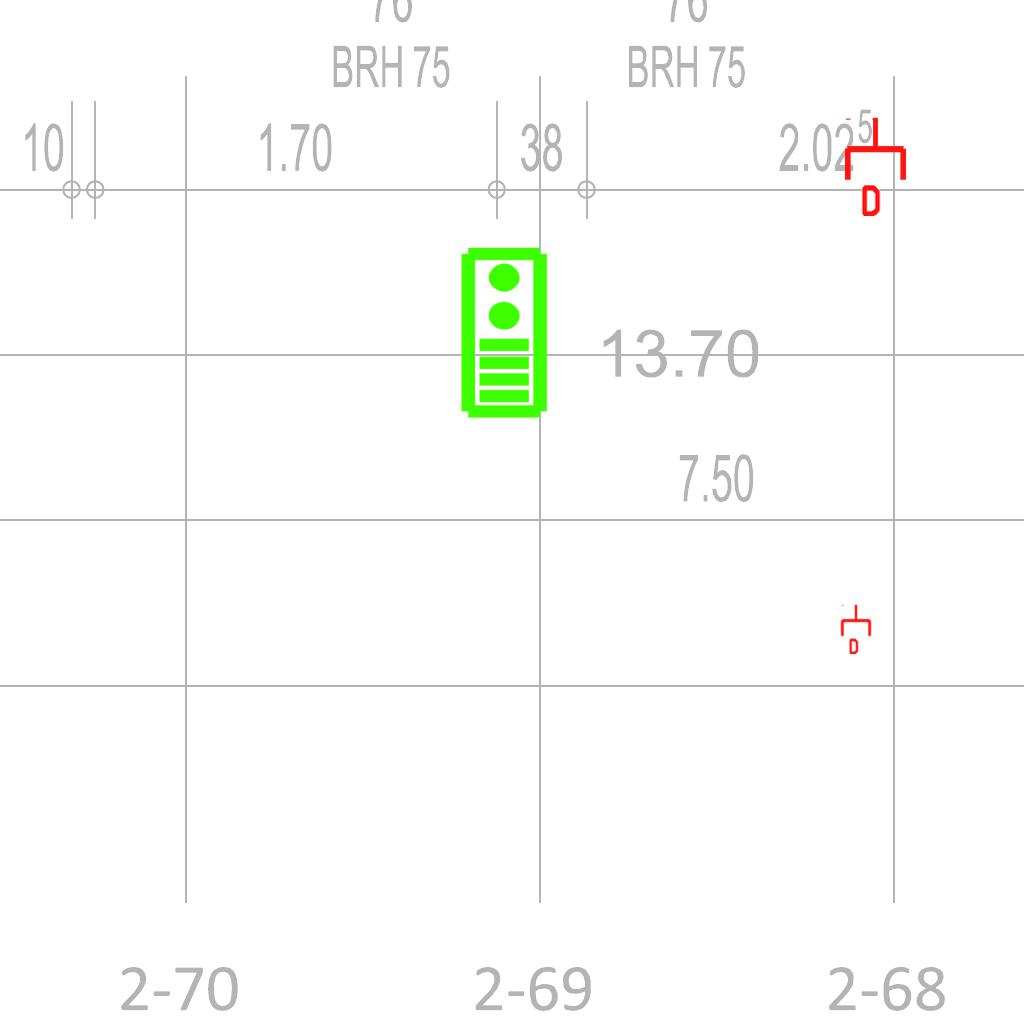Datenanschluss_einfach: (841, 116, 910, 216), (839, 604, 873, 654)
Gegensprechanlage_mit_Video: (455, 244, 550, 420)
